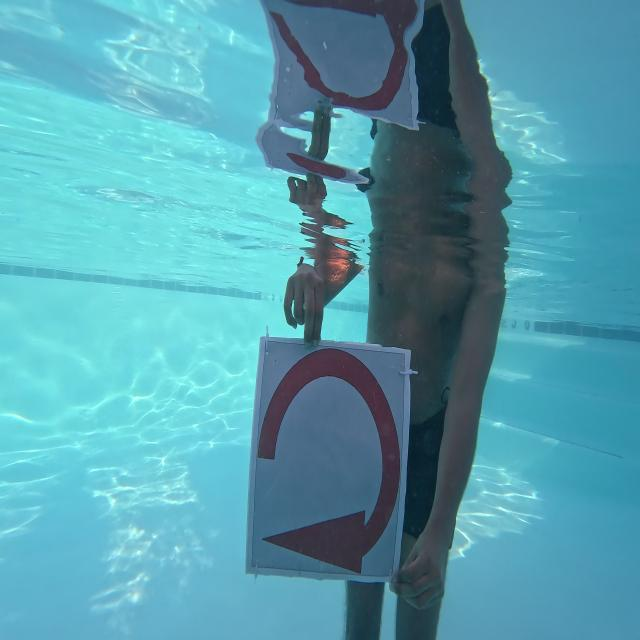red_side: (250, 325, 400, 590)
